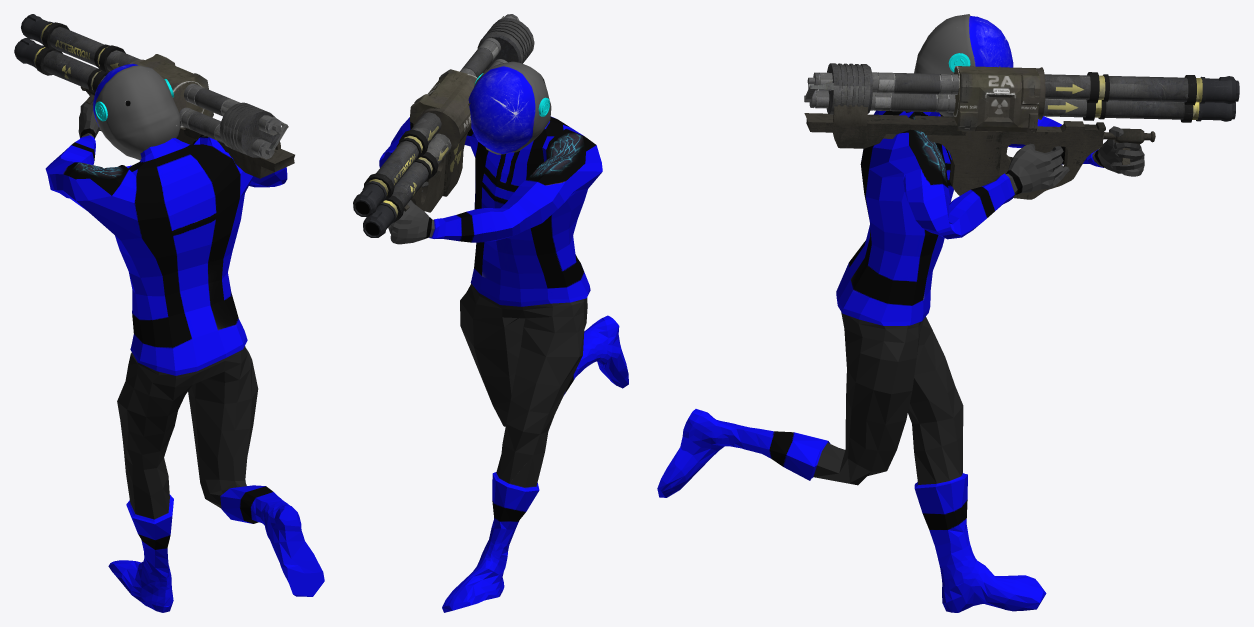
3 renders of one model, left to right at view 1: azimuth 30°, elevation 25°; view 2: azimuth 150°, elevation 25°; view 3: azimuth 270°, elevation 25°, orthographic. The views are drawn at different scales.
Visible parts, largest first — view 1: Brazos2, Piernas1, group1_polySurface5, Cabeza1; view 2: Piernas1, Brazos2, group1_polySurface5, Cabeza1; view 3: group1_polySurface5, Piernas1, Brazos2, Cabeza1.
Boxes of the visible parts, x1,y1,x2,y2 form: Brazos2: (45,101,287,375); Piernas1: (108,346,324,612); group1_polySurface5: (14,14,294,178); Cabeza1: (93,63,180,160); Piernas1: (442,283,628,612); Brazos2: (379,116,602,306); group1_polySurface5: (353,14,534,237); Cabeza1: (468,61,551,154); group1_polySurface5: (804,63,1239,199); Piernas1: (657,312,1046,612); Brazos2: (836,110,1144,325); Cabeza1: (914,14,1013,116).
Bounding box in the file's own units: 68.7 × 167 × 152.
